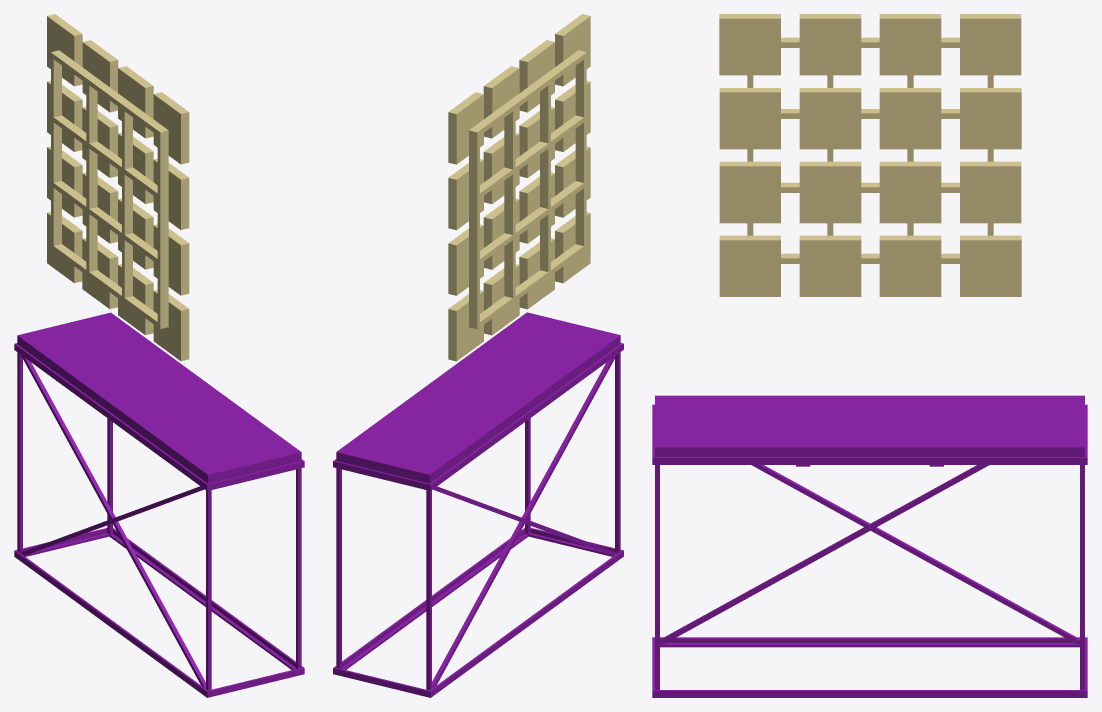
The model's file is konsole and wall decor.obj.
3 renders of one model, left to right at view 1: azimuth 30°, elevation 25°; view 2: azimuth 150°, elevation 25°; view 3: azimuth 270°, elevation 25°, orthographic. The views are drawn at different scales.
Parts seen in each view (by area): view 1: 20_____001, 1______011, 21_____001, 18_____011, 19_____011, 17_____011, 0______011, 13_____011, 4______011, 3______011, 2______011, 9______011 (+27 smaller); view 2: 20_____001, 22_____001, 19_____011, 1______011, 18_____011, 17_____011, 4______011, 16_____011, 0______011, 3______011, 2______011, 20_____011 (+27 smaller); view 3: 20_____001, 10_____011, 11_____011, 2______011, 3______011, 6______011, 7______011, 9______011, 12_____011, 14_____011, 15_____011, 0______011 (+15 smaller).
Part boxes in pixels (x1,y1,x2,y2): 20_____001: [17, 312, 301, 483]; 1______011: [157, 128, 168, 328]; 21_____001: [21, 355, 205, 688]; 18_____011: [86, 83, 97, 271]; 19_____011: [51, 50, 61, 250]; 17_____011: [122, 109, 132, 297]; 0______011: [153, 92, 189, 164]; 13_____011: [153, 290, 189, 361]; 4______011: [47, 14, 82, 86]; 3______011: [82, 40, 118, 112]; 2______011: [118, 66, 153, 138]; 9______011: [153, 224, 189, 295]; 20_____001: [336, 312, 620, 483]; 22_____001: [432, 355, 616, 688]; 19_____011: [469, 128, 479, 328]; 1______011: [575, 50, 586, 250]; 18_____011: [504, 109, 515, 297]; 17_____011: [540, 84, 550, 271]; 4______011: [448, 92, 483, 164]; 16_____011: [448, 290, 483, 361]; 0______011: [555, 14, 590, 86]; 3______011: [483, 66, 519, 138]; 2______011: [519, 40, 554, 112]; 20_____011: [472, 52, 583, 134]; 20_____001: [655, 395, 1084, 456]; 10_____011: [799, 161, 861, 223]; 11_____011: [879, 161, 941, 223]; 2______011: [799, 14, 861, 75]; 3______011: [879, 14, 941, 75]; 6______011: [799, 88, 861, 149]; 7______011: [879, 88, 941, 149]; 9______011: [719, 161, 780, 223]; 12_____011: [960, 161, 1021, 223]; 14_____011: [799, 235, 861, 296]; 15_____011: [879, 235, 941, 296]; 0______011: [719, 14, 780, 75].
Size of the model in its own units: 368 by 1924 by 1200.
